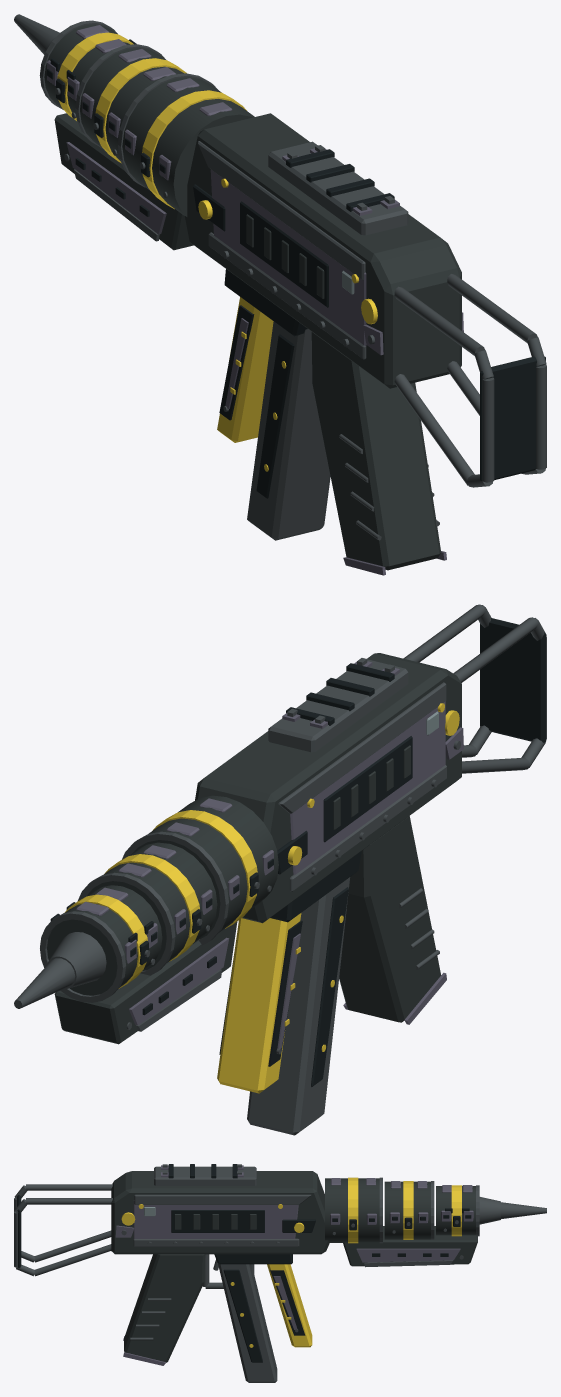
The model's file is smg_0.glb.
3 renders of one model, top to bottom at view 1: azimuth 30°, elevation 25°; view 2: azimuth 150°, elevation 25°; view 3: azimuth 270°, elevation 25°, orthographic. The views are drawn at different scales.
Visible parts, largest first — view 1: Weapon_smg_v1; view 2: Weapon_smg_v1; view 3: Weapon_smg_v1.
Boxes of the visible parts, x1,y1,x2,y2 form: Weapon_smg_v1: (14, 14, 546, 575); Weapon_smg_v1: (14, 604, 546, 1135); Weapon_smg_v1: (14, 1164, 546, 1382).
Size of the model in its own units: 0.084 by 0.2695 by 0.624.
